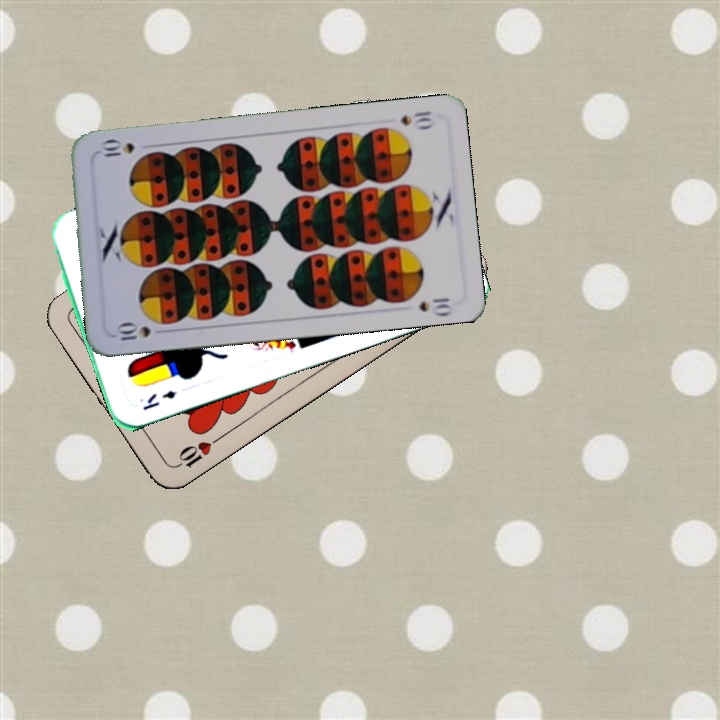EK: (139, 386, 180, 413)
H10: (172, 432, 224, 470)
S10: (112, 319, 170, 344), (397, 107, 437, 132)
